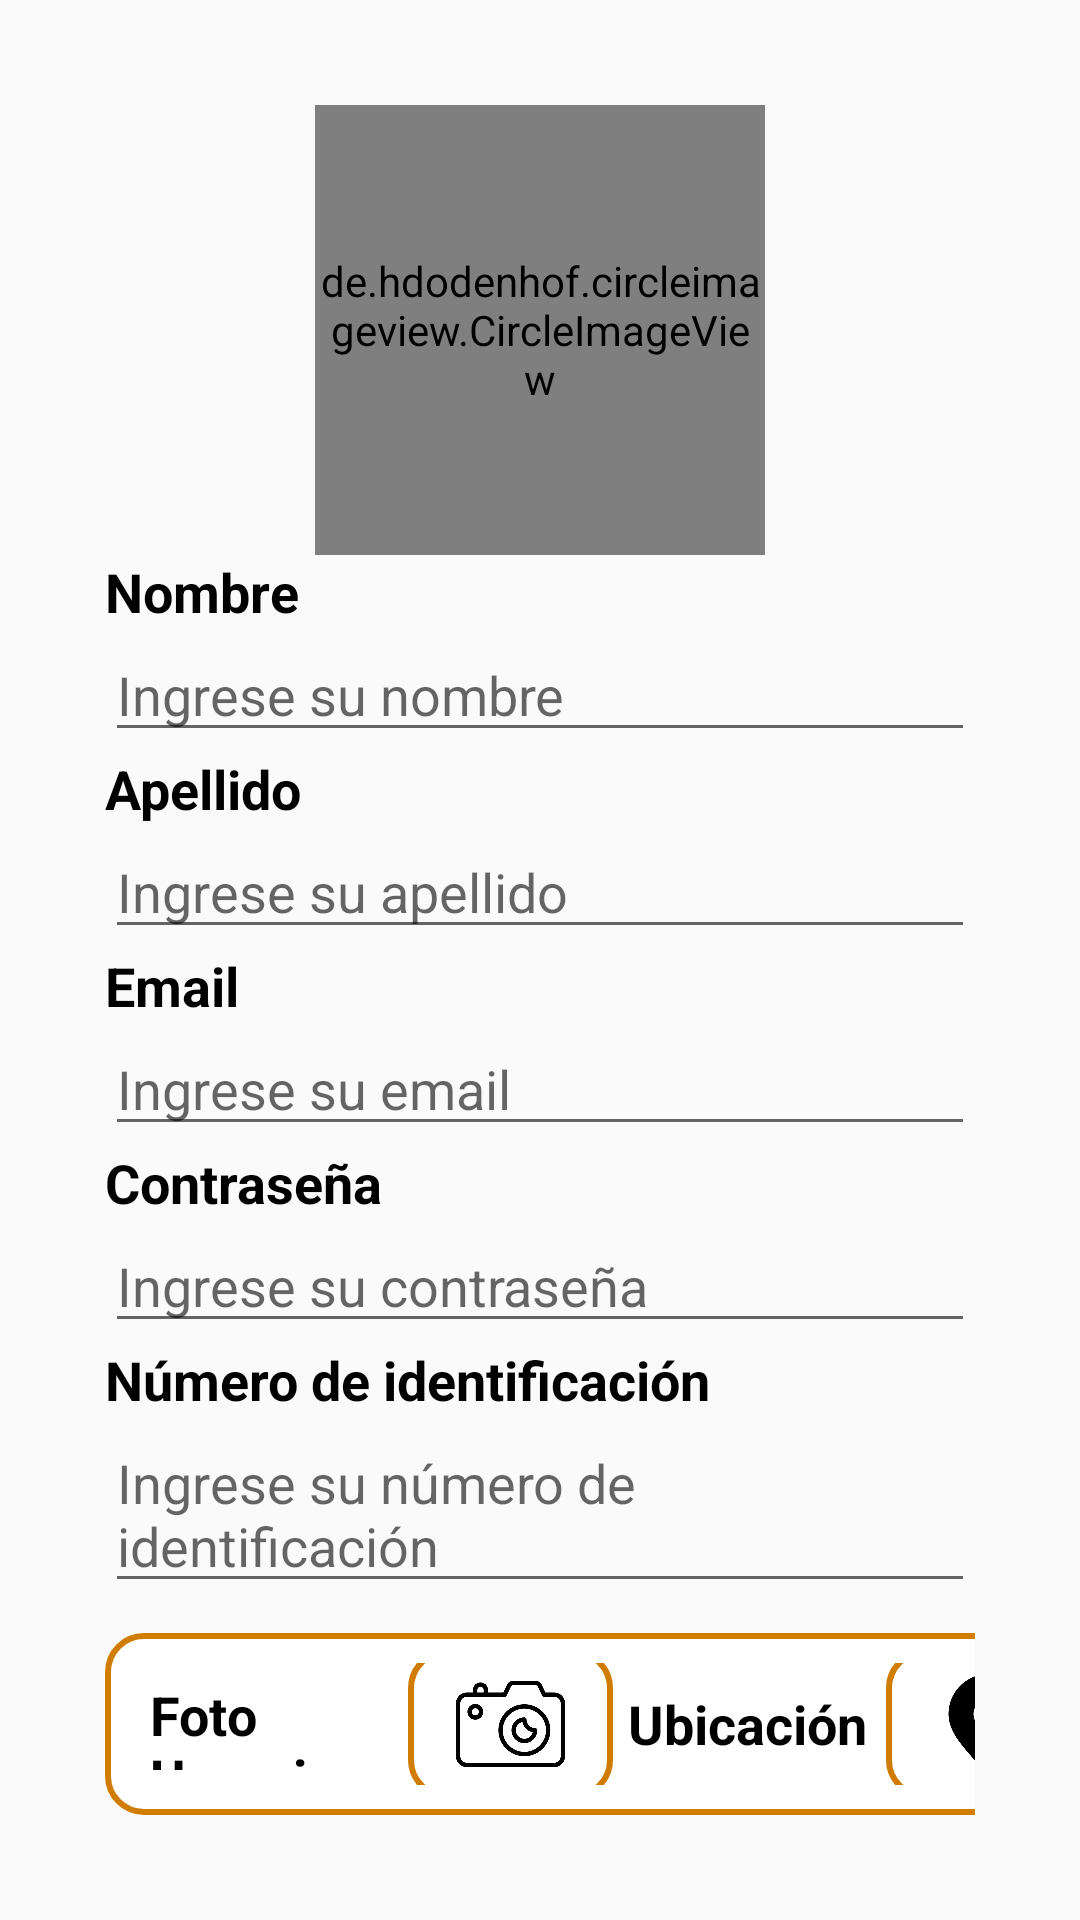

Point at icon controls on the screen. Image size 1080*1920, points as point (x, y).
camara: point (510, 1724)
